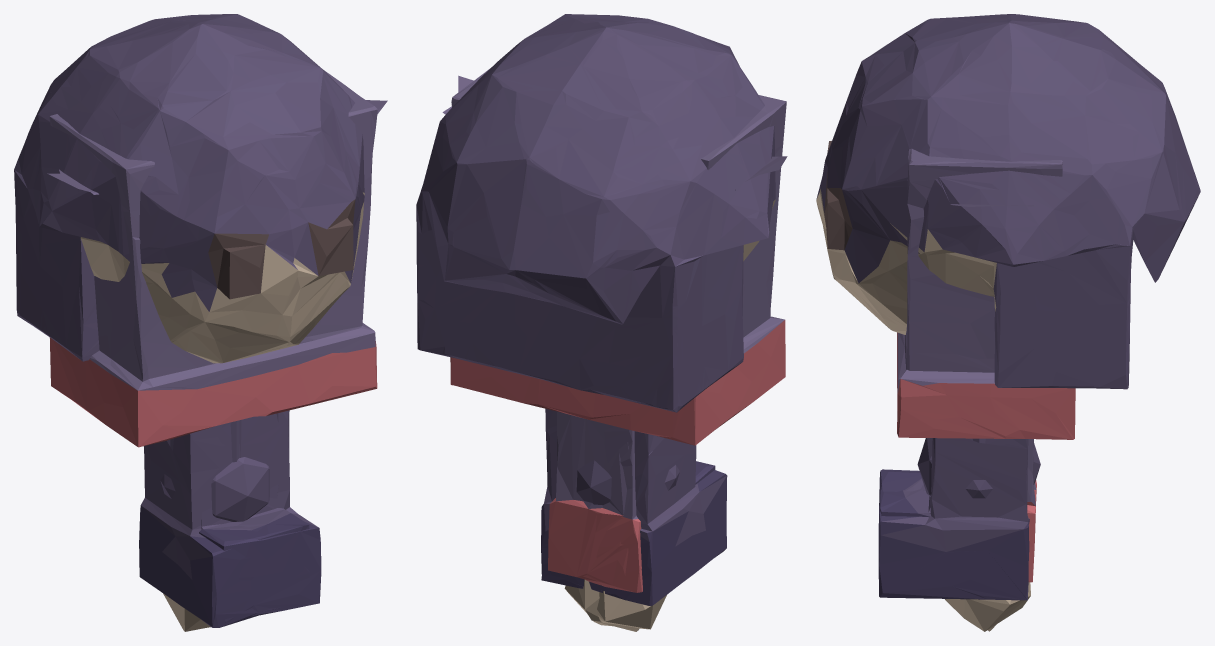
The model's file is assassin.glb.
The picture shows the model from 3 angles, left to right: view 1: azimuth 30°, elevation 25°; view 2: azimuth 150°, elevation 25°; view 3: azimuth 270°, elevation 25°; orthographic projection. The views are drawn at different scales.
Visible parts, largest first — view 1: head, torso, legL_l, legR_l, legL_u, legR_u, armR_l; view 2: head, torso, legL_l, armL_l, armR_l, armL_u, legR_l, legL_u, armR_u, legR_u; view 3: head, torso, legR_l, legR_u, armL_l, legL_l.
Boxes of the visible parts, x1,y1,x2,y2 form: head: (14,14,364,363); torso: (47,70,387,447); legL_l: (139,456,309,627); legR_l: (160,457,321,622); legL_u: (144,413,278,505); legR_u: (201,410,289,526); armR_l: (163,593,210,631); head: (416,14,775,412); torso: (442,69,787,445); legL_l: (551,453,727,605); armL_l: (548,467,639,631); armR_l: (582,488,666,629); armL_u: (557,411,628,515); legR_l: (541,436,715,592); legL_u: (634,431,696,502); armR_u: (604,426,635,496); legR_u: (545,408,556,501); head: (816,14,1200,389); torso: (897,148,1075,439); legR_l: (878,438,1040,600); legR_u: (931,438,1028,515); armL_l: (945,475,1036,631); legL_l: (878,469,1029,561).
Size of the model in its own units: 0.8504 by 1.47 by 0.86.
